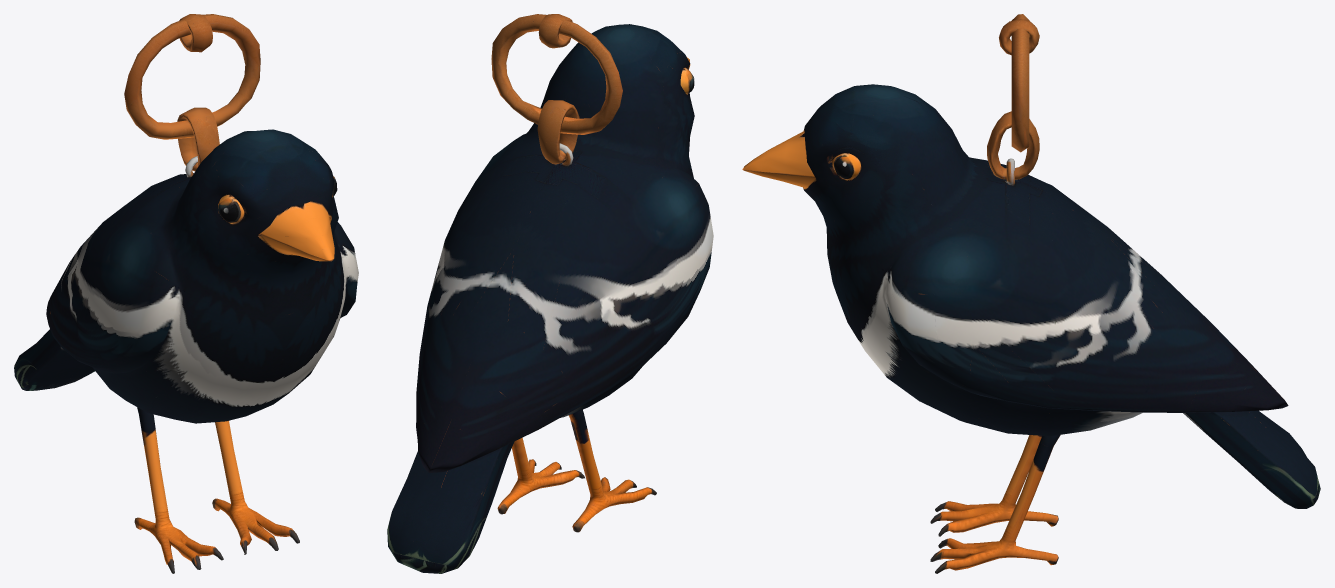
The model's file is magpies-hoard-charm_refine.glb.
3 renders of one model, left to right at view 1: azimuth 30°, elevation 25°; view 2: azimuth 150°, elevation 25°; view 3: azimuth 270°, elevation 25°, orthographic. The views are drawn at different scales.
Bounding box in the file's own units: 0.4448 × 0.9512 × 0.9502.
Materials: 1 (1 with a texture image).
